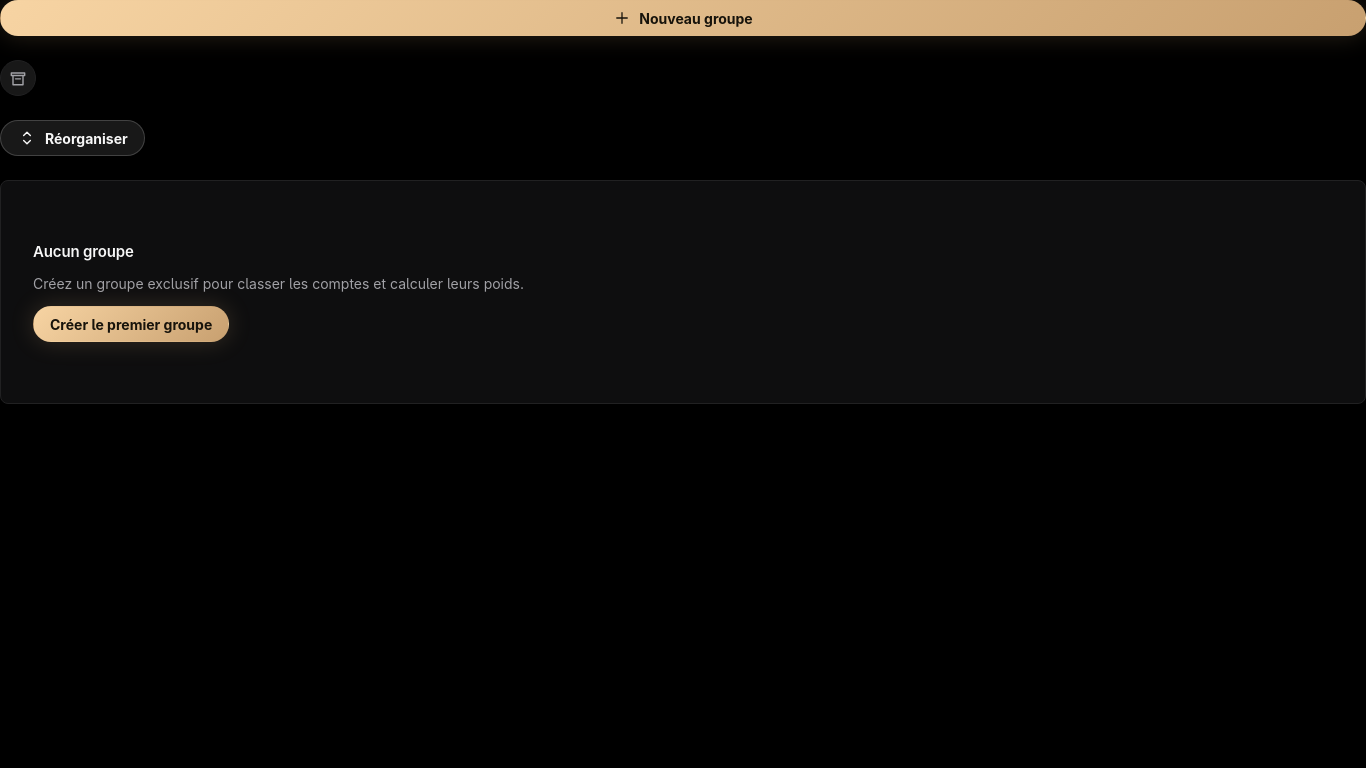
Test: AccountGroupsPage › covers the empty state and creates a bounded group
This screenshot has width=1366, height=768.
Expected: the heading "Aucun groupe" is shown, [33, 242, 134, 261]
Click the button "Créer le premier groupe" at (131, 324), box [33, 306, 229, 342]
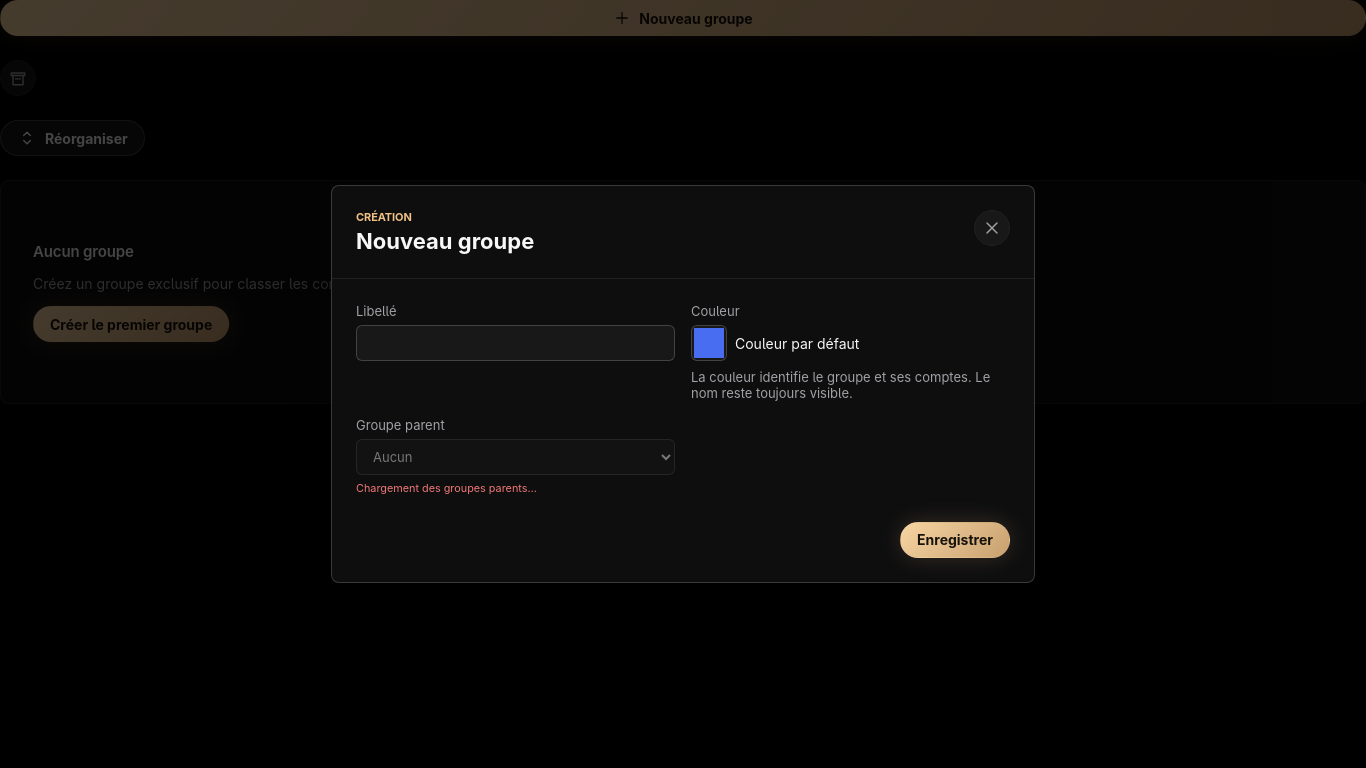
Expected: the dialog "Nouveau groupe" is shown, [331, 185, 1035, 583]
Type "Épargne" into the field labelled "Libellé" at (516, 343), box [356, 325, 675, 361]
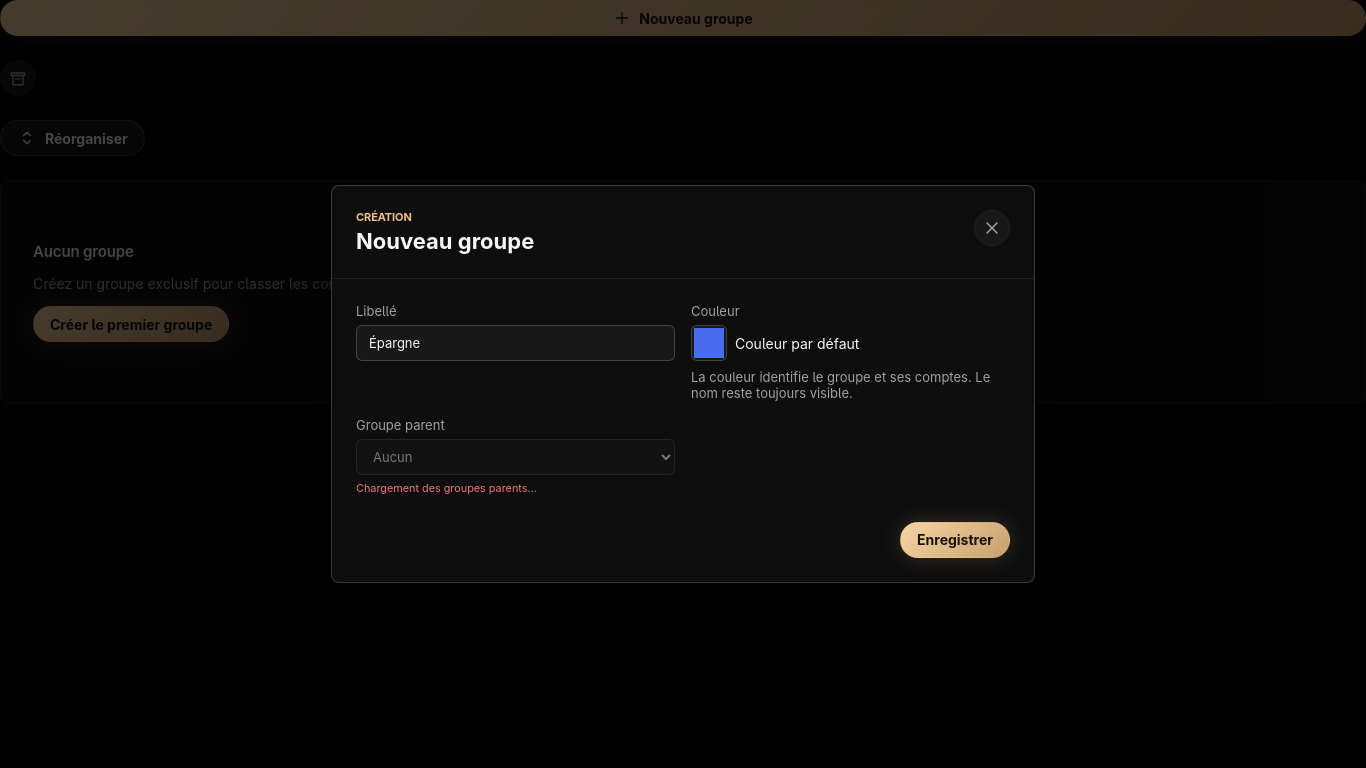
Click the button "Enregistrer" at (955, 540), box [900, 522, 1010, 558]
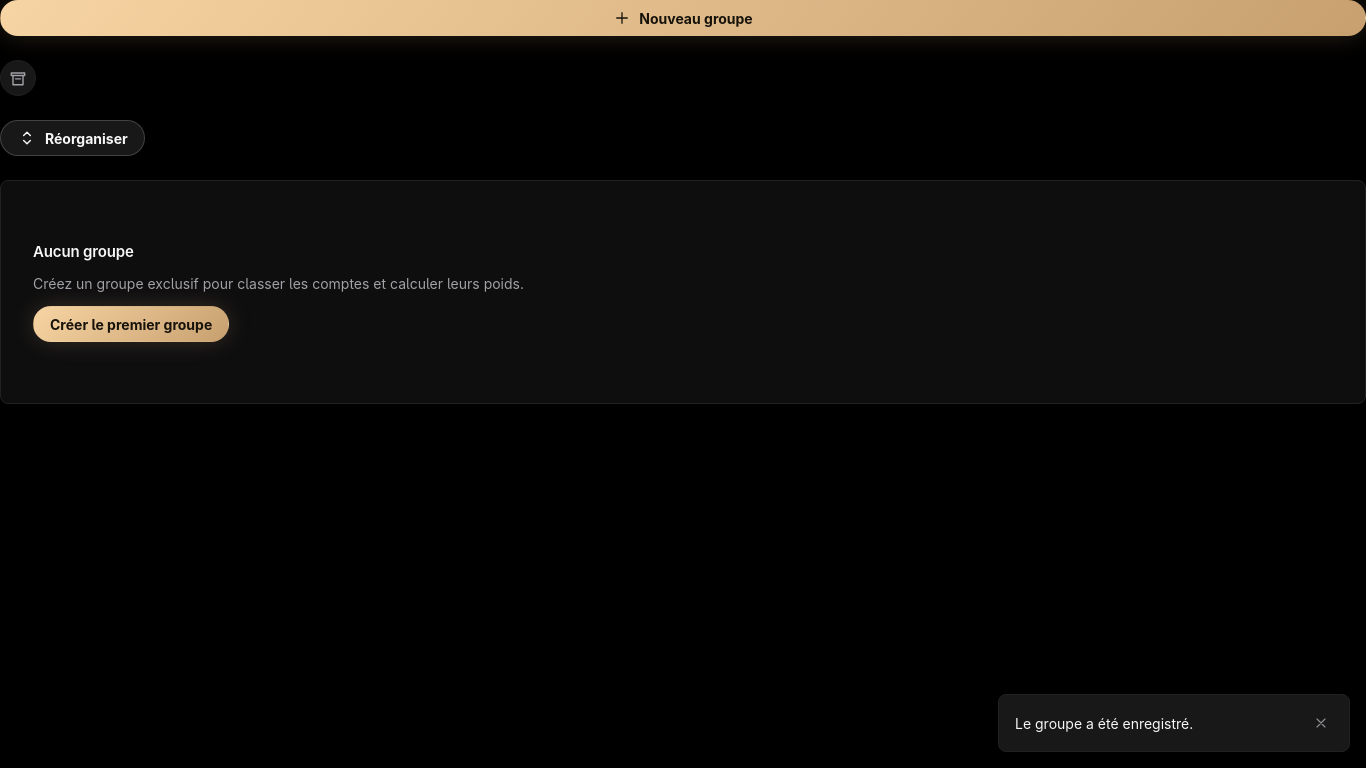
Expected: the text "Le groupe a été enregistré." is shown, [1015, 714, 1193, 732]
